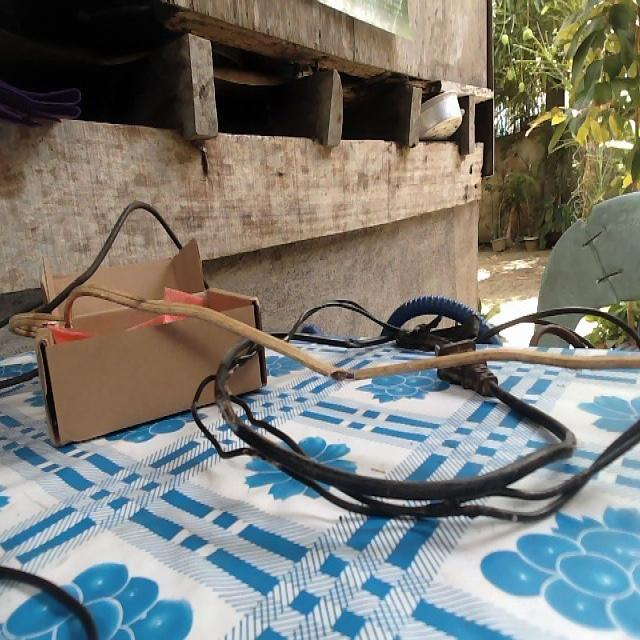-: (328, 369, 353, 380)
